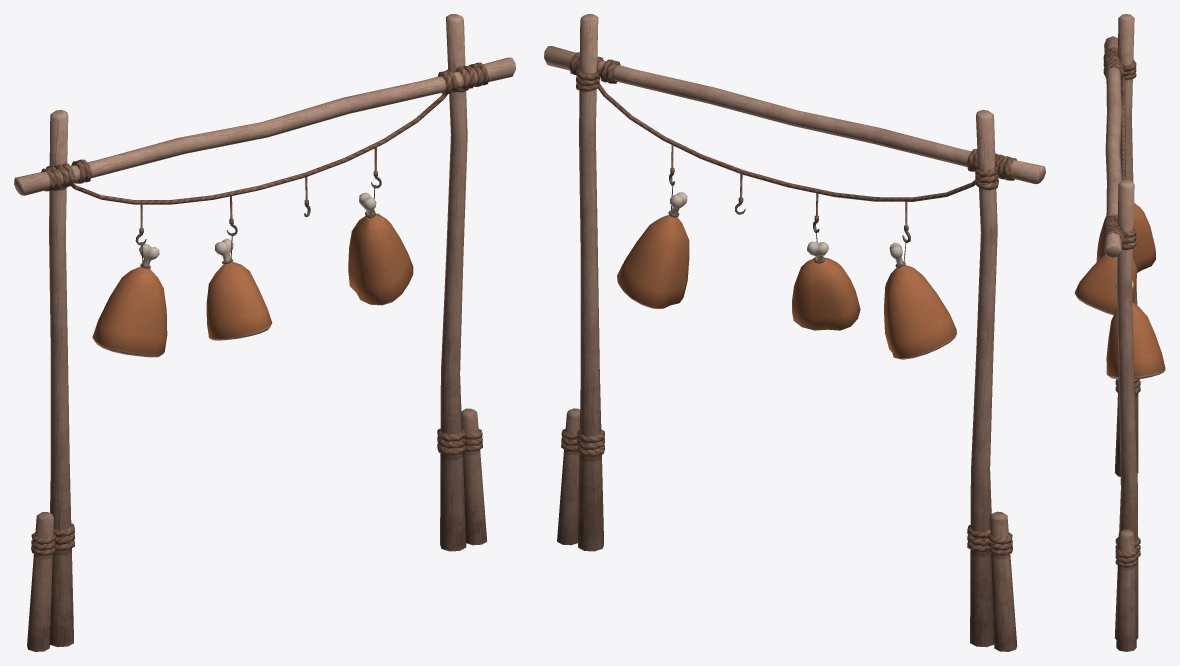
3 renders of one model, left to right at view 1: azimuth 30°, elevation 25°; view 2: azimuth 150°, elevation 25°; view 3: azimuth 270°, elevation 25°, orthographic. The views are drawn at different scales.
Parts seen in each view (by area): view 1: submesh_0; view 2: submesh_0; view 3: submesh_0.
Part boxes in pixels (x1=…): submesh_0: x1=14, y1=14, x2=515, y2=651; submesh_0: x1=544, y1=14, x2=1045, y2=651; submesh_0: x1=1074, y1=14, x2=1165, y2=651.
Size of the model in its own units: 2.46 by 2.51 by 0.4526.
1 material, 1 textured.
